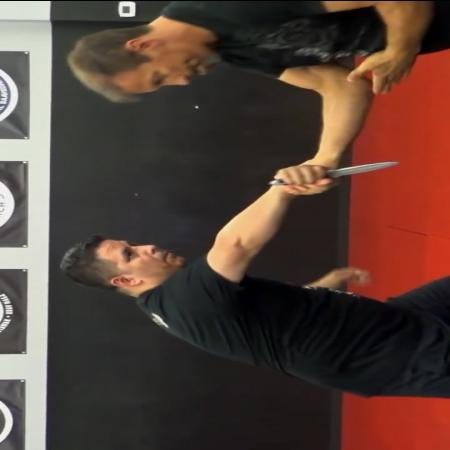long weapon: (266, 157, 406, 191)
